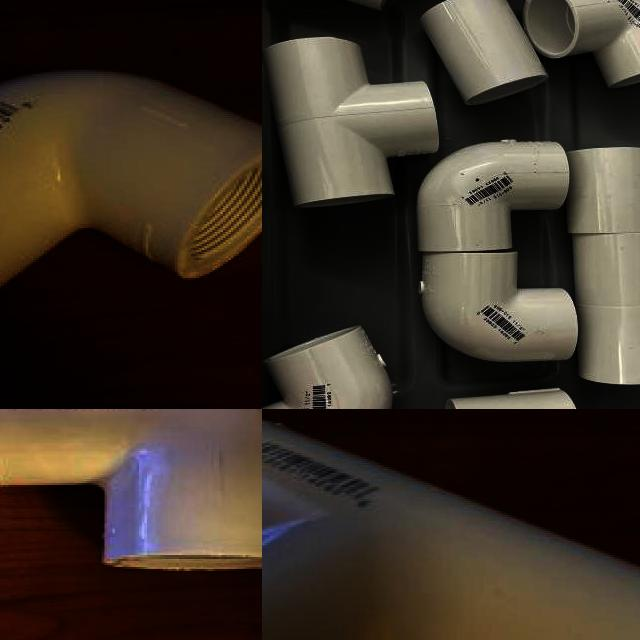L Joint: (0, 70, 262, 293), (419, 252, 579, 365), (417, 139, 572, 253), (262, 328, 394, 409)
T Joint: (262, 422, 640, 640), (263, 37, 442, 211), (571, 229, 640, 389)
